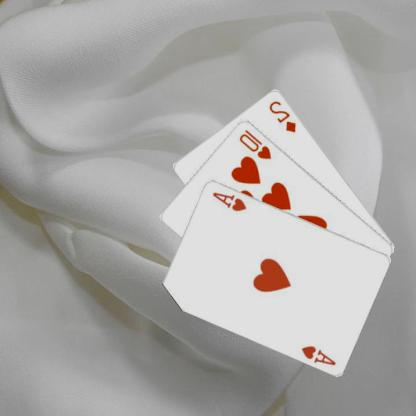10H: (238, 127, 274, 160)
2D: (268, 98, 299, 134)
AH: (300, 342, 339, 367), (211, 189, 250, 212)
